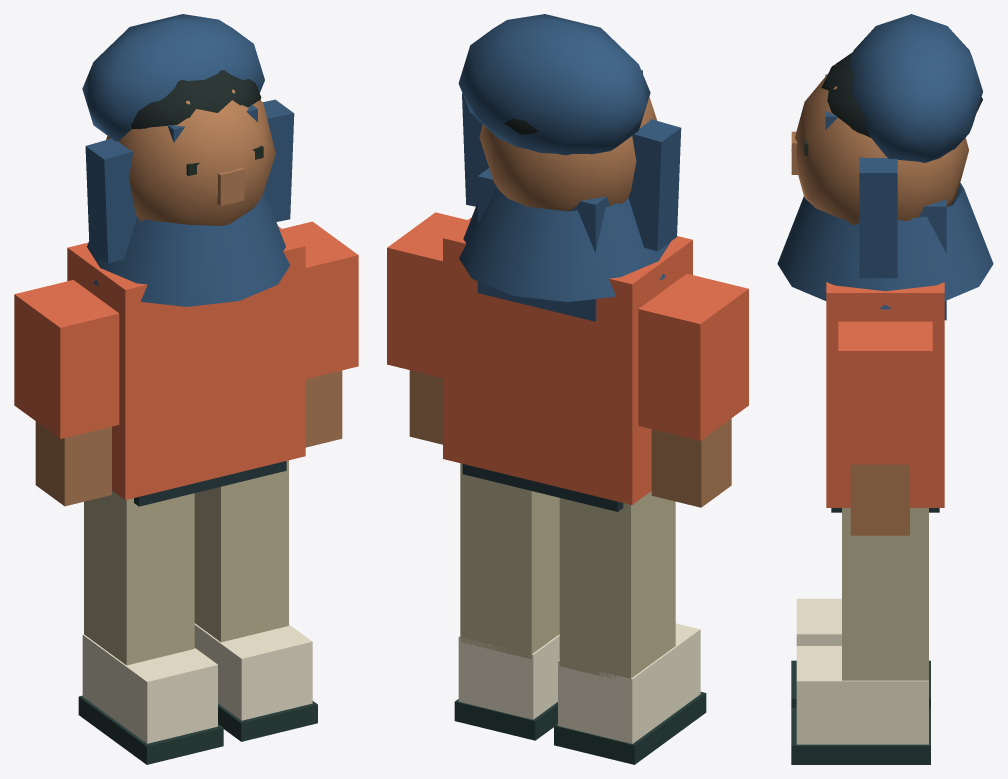
The model's file is male-tudung-bawal.glb.
3 views of the same model, side by side, from view 1: azimuth 30°, elevation 25°; view 2: azimuth 150°, elevation 25°; view 3: azimuth 270°, elevation 25° (orthographic). The views are drawn at different scales.
Parts seen in each view (by area): view 1: male-tudung-bawal, avatar-tudung, tudung-neck-wrap; view 2: male-tudung-bawal, avatar-tudung, tudung-neck-wrap; view 3: male-tudung-bawal, avatar-tudung, tudung-neck-wrap.
Part boxes in pixels (left/top/right/bottom): male-tudung-bawal: left=14, top=70, right=358, bottom=764; avatar-tudung: left=82, top=14, right=294, bottom=263; tudung-neck-wrap: left=87, top=191, right=290, bottom=306; male-tudung-bawal: left=387, top=97, right=748, bottom=764; avatar-tudung: left=458, top=14, right=681, bottom=321; tudung-neck-wrap: left=459, top=190, right=670, bottom=301; male-tudung-bawal: left=791, top=51, right=982, bottom=764; avatar-tudung: left=825, top=14, right=982, bottom=320; tudung-neck-wrap: left=777, top=183, right=993, bottom=309.
Size of the model in its own units: 1.01 by 2.2 by 0.62.
